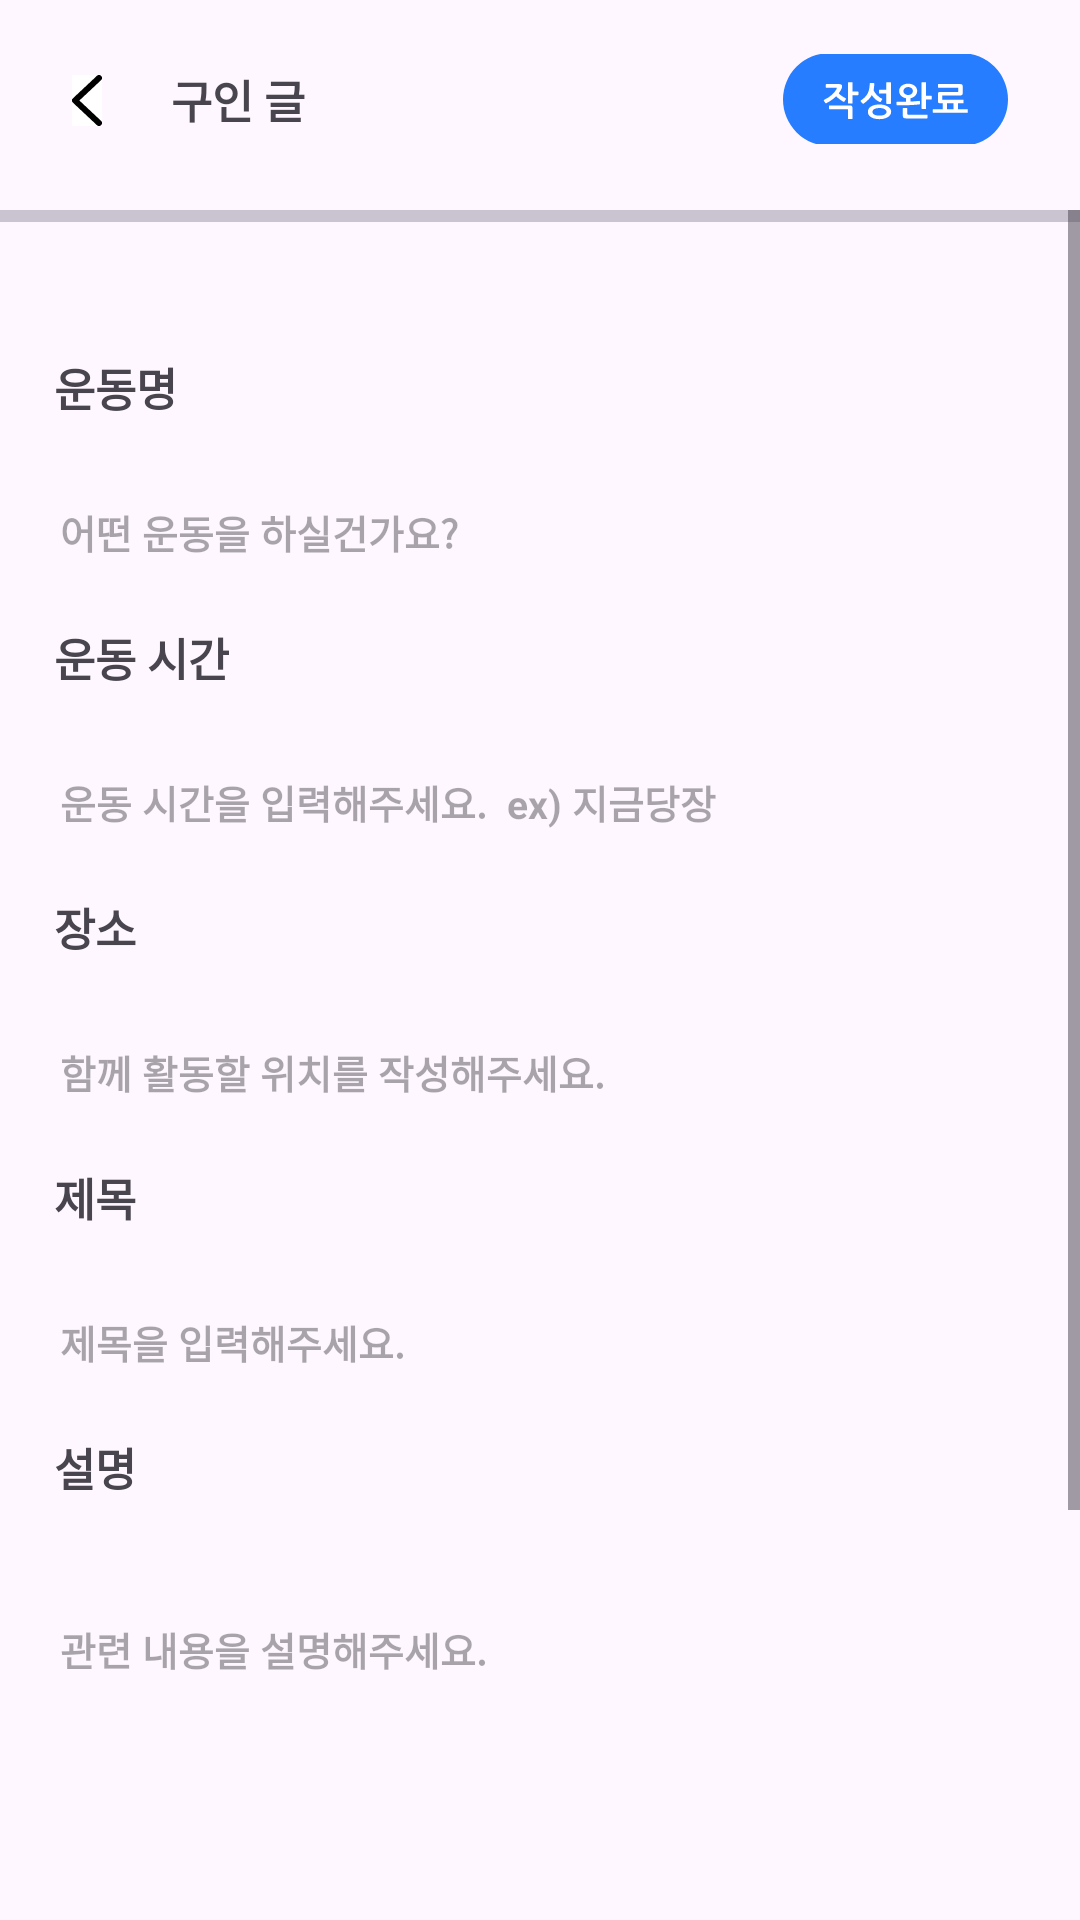

Point at icon controls on the screen. Image size 1080x1920, points as point (x, y).
back: point (87, 100)
